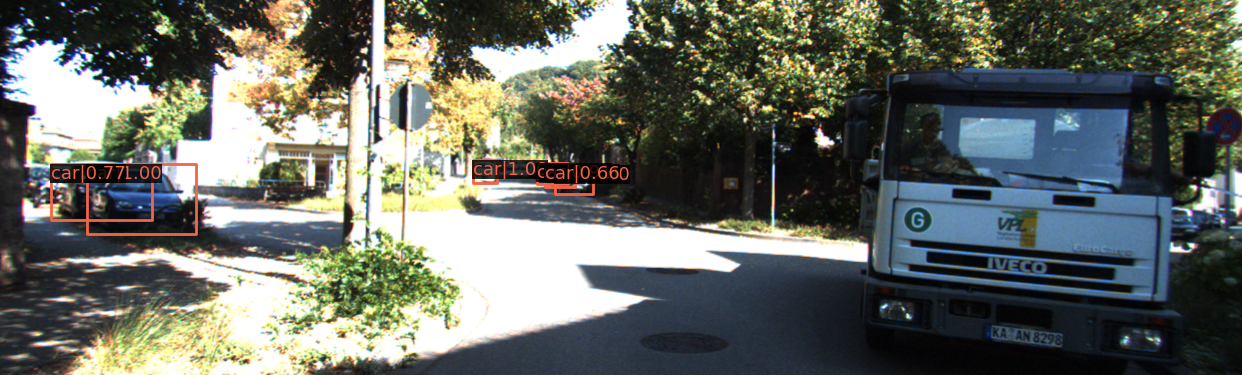car: (90, 168, 192, 235), (56, 161, 156, 222), (554, 167, 592, 197), (473, 163, 498, 187)
